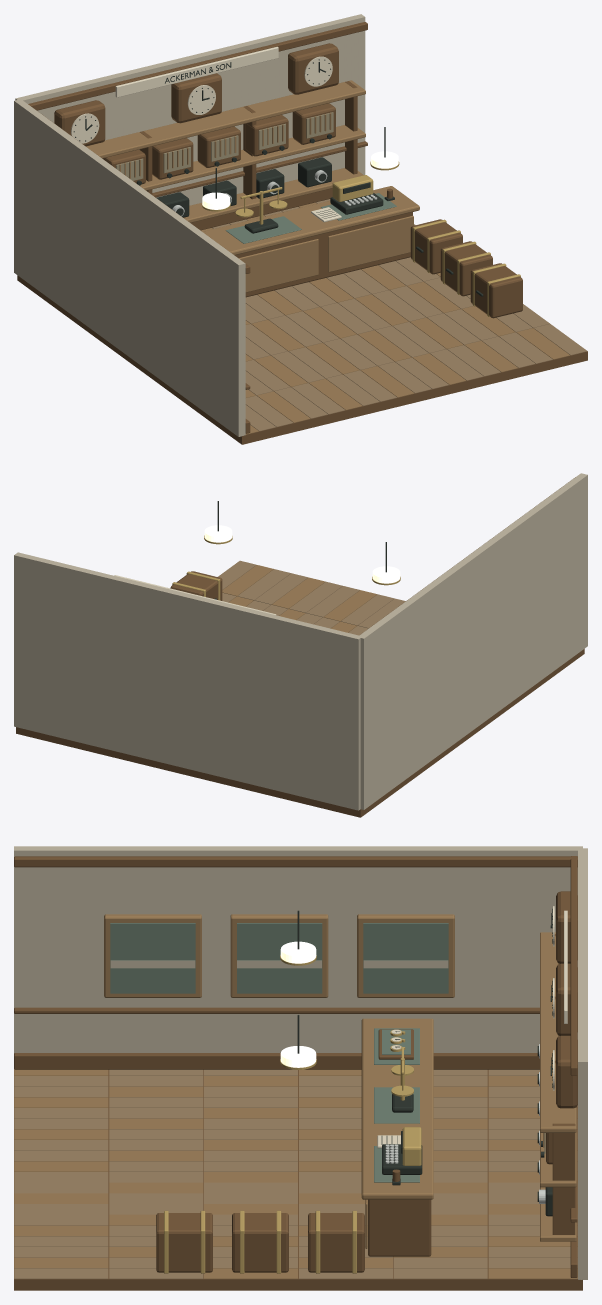
File: interior-pawn.glb
3 renders of one model, top to bottom at view 1: azimuth 30°, elevation 25°; view 2: azimuth 150°, elevation 25°; view 3: azimuth 270°, elevation 25°, orthographic. The views are drawn at different scales.
Parts seen in each view (by area): view 1: left wall, floorboard.001, floorboard, back rail, back wall, shop foundation, rear stock shelf, clock face, radio tuning knob, pocket watch, radio speaker cloth, watch minute hand (+2 smaller); view 2: back wall, left wall, floorboard.001, shop foundation, floorboard, opal pendant; view 3: left wall, floorboard.001, floorboard, shop foundation, side rail, picture canvas, back rail, picture frame, rear stock shelf, back wall, pocket watch, velvet valuation pad (+3 smaller).
Boxes of the visible parts, bbox=[...] form: left wall: bbox=[14, 99, 245, 436]; floorboard.001: bbox=[212, 199, 587, 431]; floorboard: bbox=[201, 186, 570, 434]; back rail: bbox=[28, 22, 367, 230]; back wall: bbox=[15, 14, 365, 205]; shop foundation: bbox=[17, 188, 587, 444]; rear stock shelf: bbox=[86, 80, 365, 222]; clock face: bbox=[71, 46, 332, 143]; radio tuning knob: bbox=[73, 59, 332, 217]; pocket watch: bbox=[201, 161, 520, 316]; radio speaker cloth: bbox=[116, 112, 333, 180]; watch minute hand: bbox=[215, 127, 483, 296]; back wall: bbox=[14, 552, 362, 810]; left wall: bbox=[358, 473, 587, 809]; floorboard.001: bbox=[218, 560, 405, 635]; shop foundation: bbox=[16, 571, 584, 817]; floorboard: bbox=[222, 565, 377, 632]; opal pendant: bbox=[204, 525, 400, 583]; left wall: bbox=[14, 846, 582, 1053]; floorboard.001: bbox=[14, 1069, 577, 1278]; floorboard: bbox=[14, 1018, 577, 1278]; shop foundation: bbox=[14, 1029, 582, 1290]; side rail: bbox=[14, 856, 577, 1069]; picture canvas: bbox=[110, 923, 448, 993]; back rail: bbox=[546, 856, 577, 1277]; picture frame: bbox=[104, 914, 454, 997]; rear stock shelf: bbox=[540, 932, 576, 1241]; back wall: bbox=[578, 848, 587, 1279]; pocket watch: bbox=[164, 955, 421, 1273]; velvet valuation pad: bbox=[374, 1028, 419, 1182].
Bounding box in the file's own units: 8.08 × 3.99 × 9.08.
